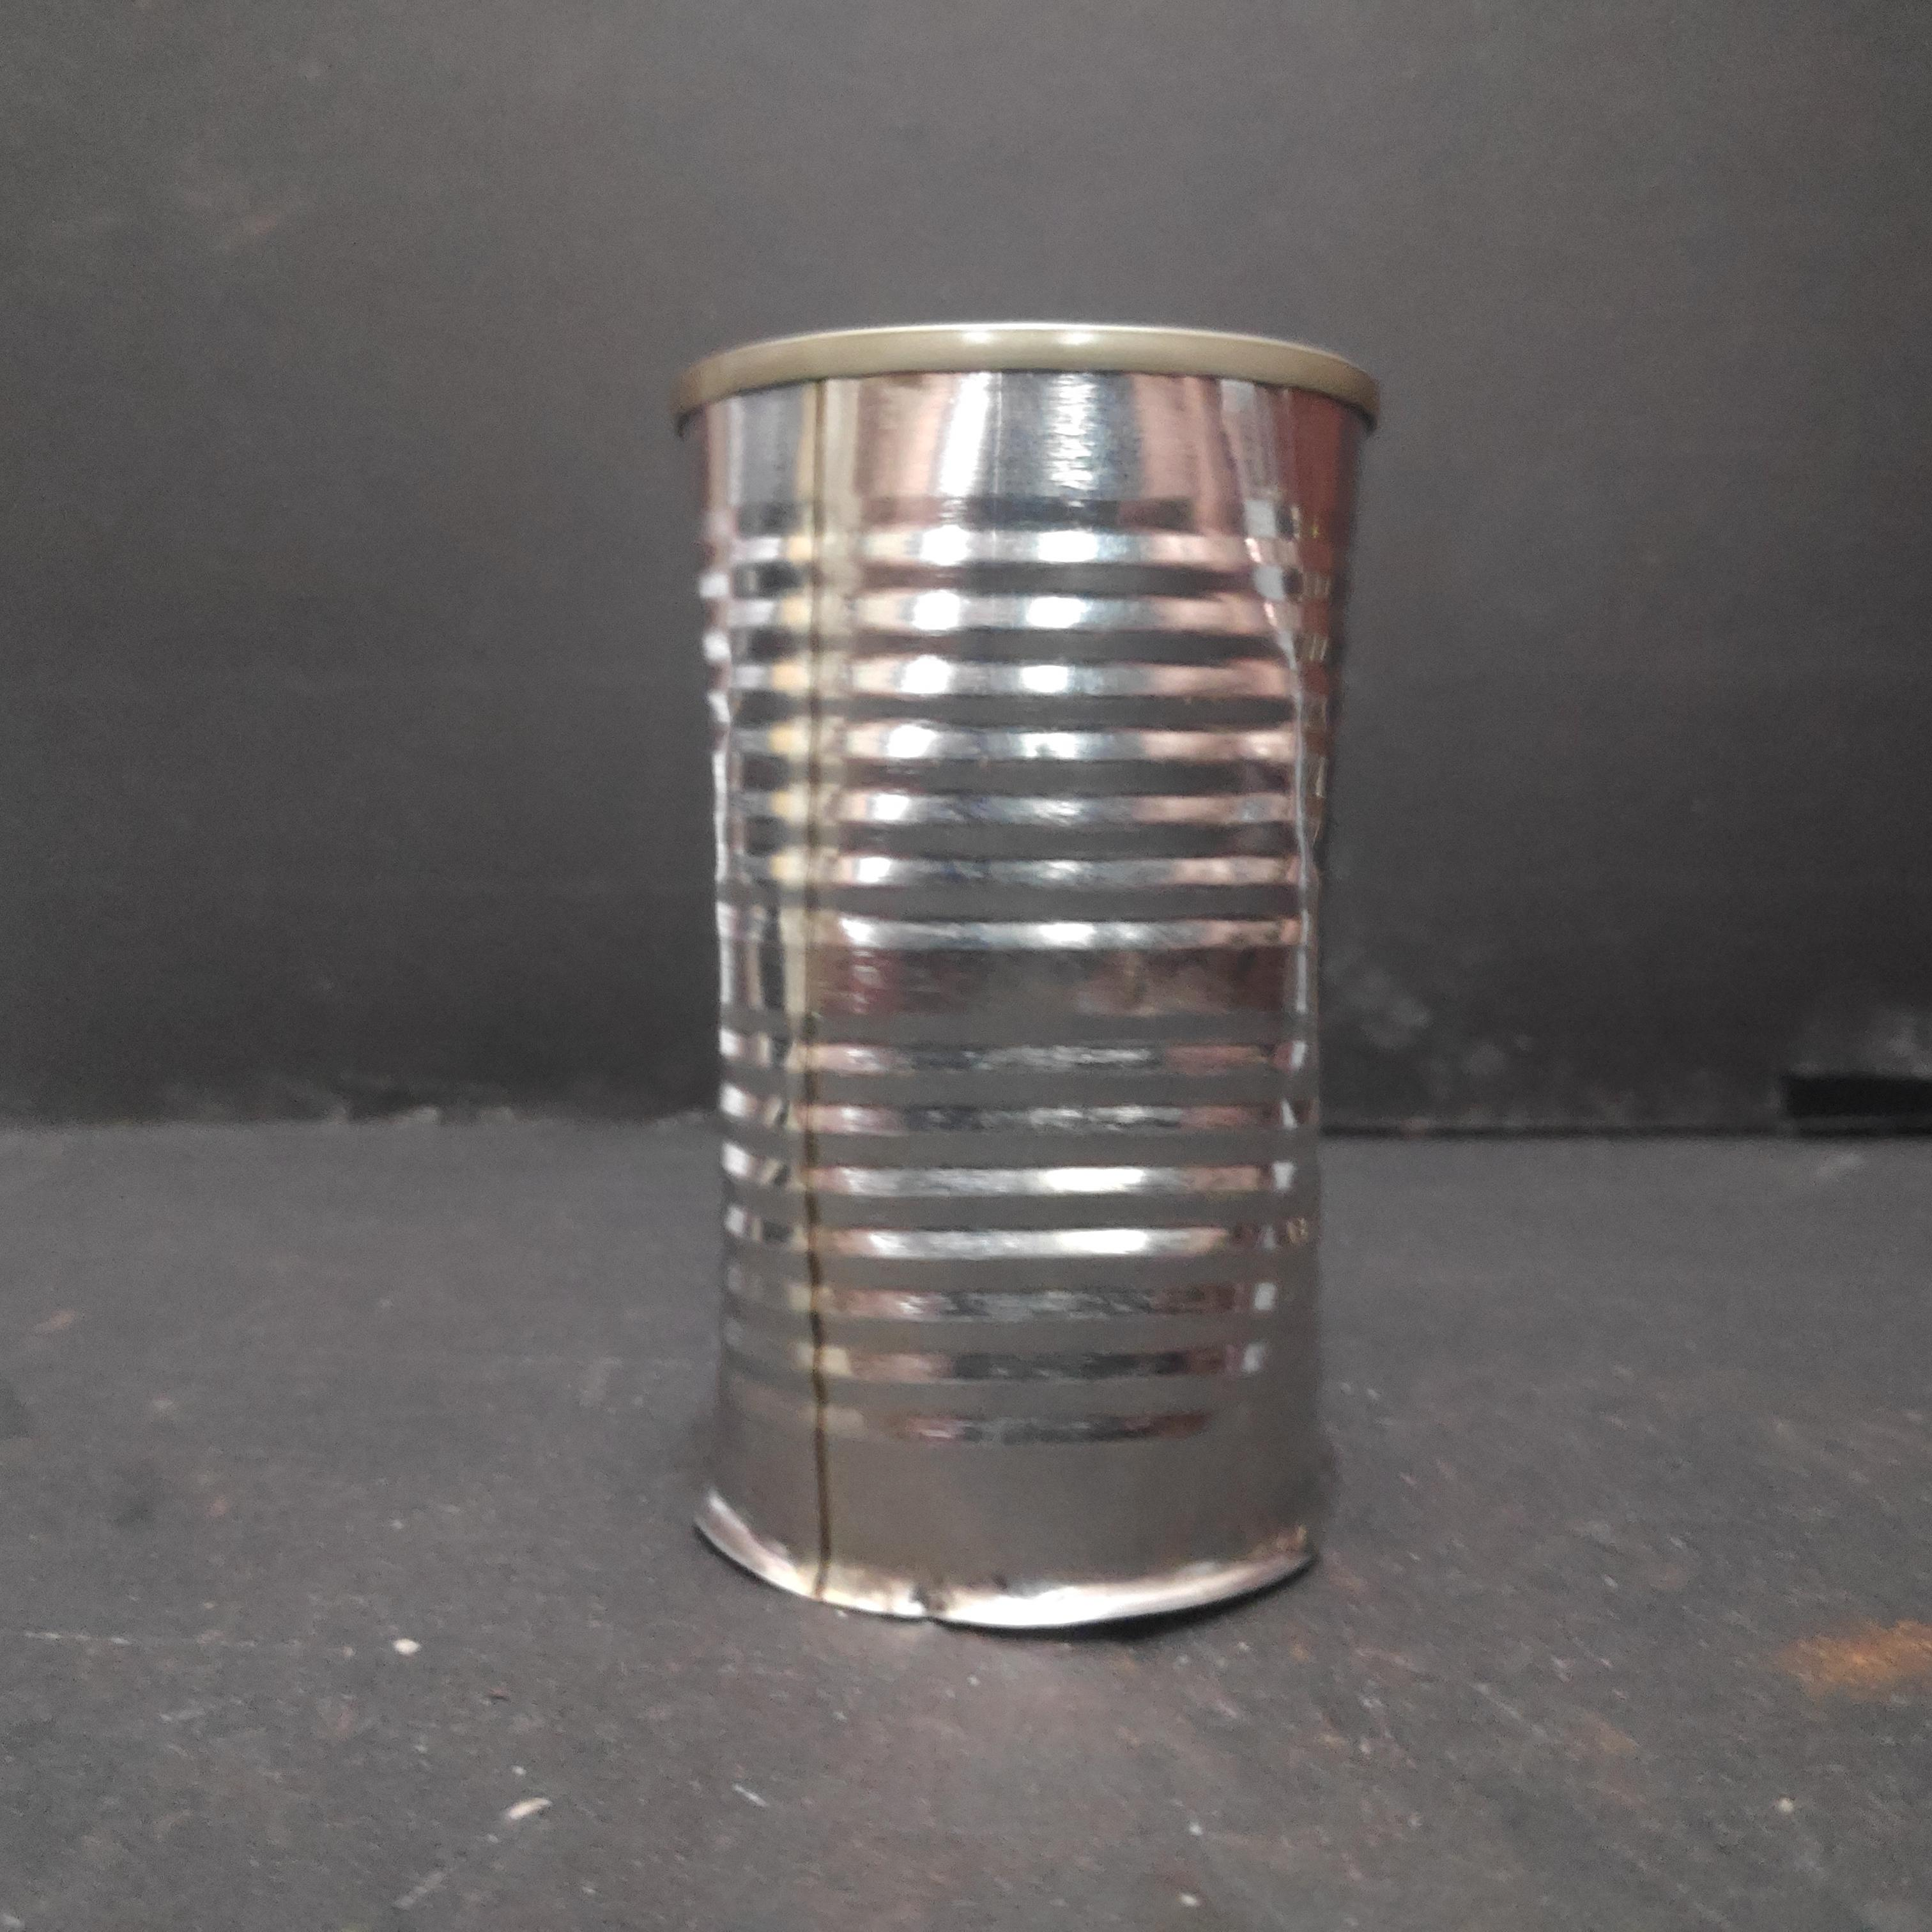Minor Defect: (663, 307, 1377, 1652)
